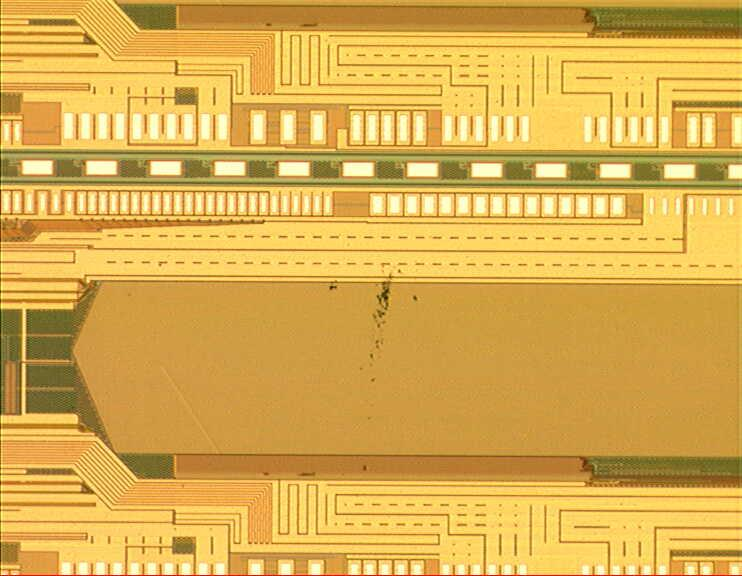PO CONTAMINATION: (287, 255, 425, 487)
